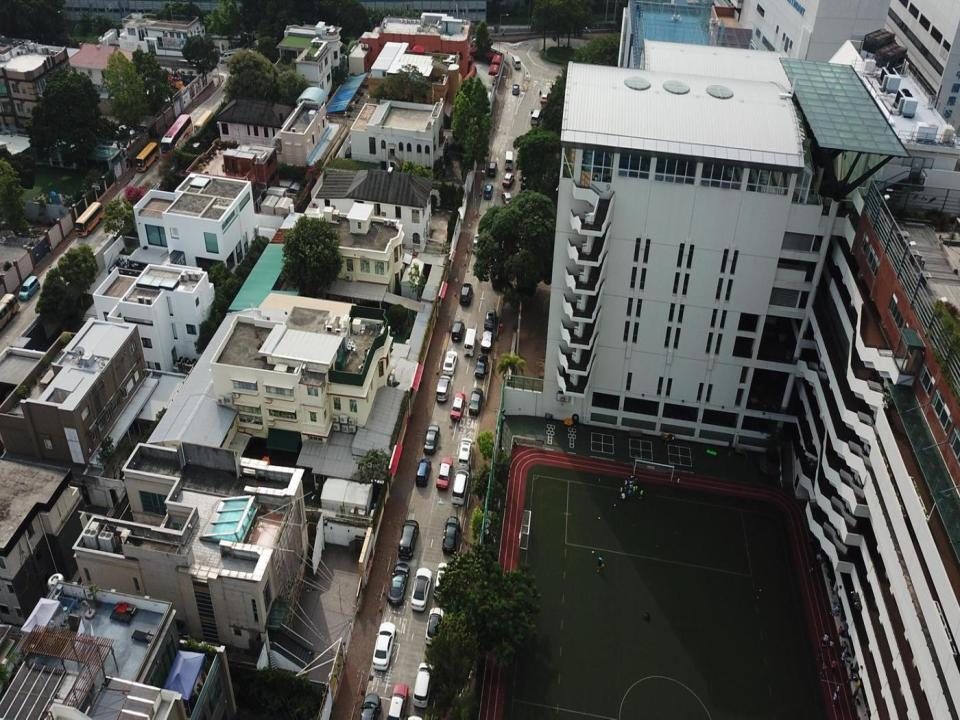bus: (161, 113, 194, 162), (74, 201, 104, 238), (0, 292, 19, 334), (134, 142, 160, 172), (194, 109, 215, 140)
car: (372, 621, 394, 670), (388, 564, 409, 606), (411, 568, 432, 610), (425, 607, 444, 646), (442, 517, 460, 557), (388, 683, 408, 719), (434, 562, 450, 600), (360, 693, 383, 719), (19, 275, 39, 300), (436, 457, 451, 490), (450, 392, 466, 420), (469, 386, 483, 417), (424, 424, 438, 454), (443, 351, 457, 375), (475, 354, 488, 378), (479, 329, 491, 354), (460, 283, 473, 305), (484, 309, 496, 331), (502, 170, 514, 188), (501, 188, 512, 206), (473, 234, 482, 254), (487, 161, 498, 177), (483, 184, 493, 201), (541, 92, 550, 104), (512, 82, 519, 94)
van: (412, 662, 433, 709), (398, 520, 419, 559), (452, 470, 468, 504), (458, 437, 472, 467), (416, 458, 430, 487), (463, 328, 476, 358), (436, 375, 450, 402), (452, 320, 464, 342), (218, 53, 238, 66), (531, 109, 541, 128), (511, 54, 521, 70), (504, 151, 514, 166)
